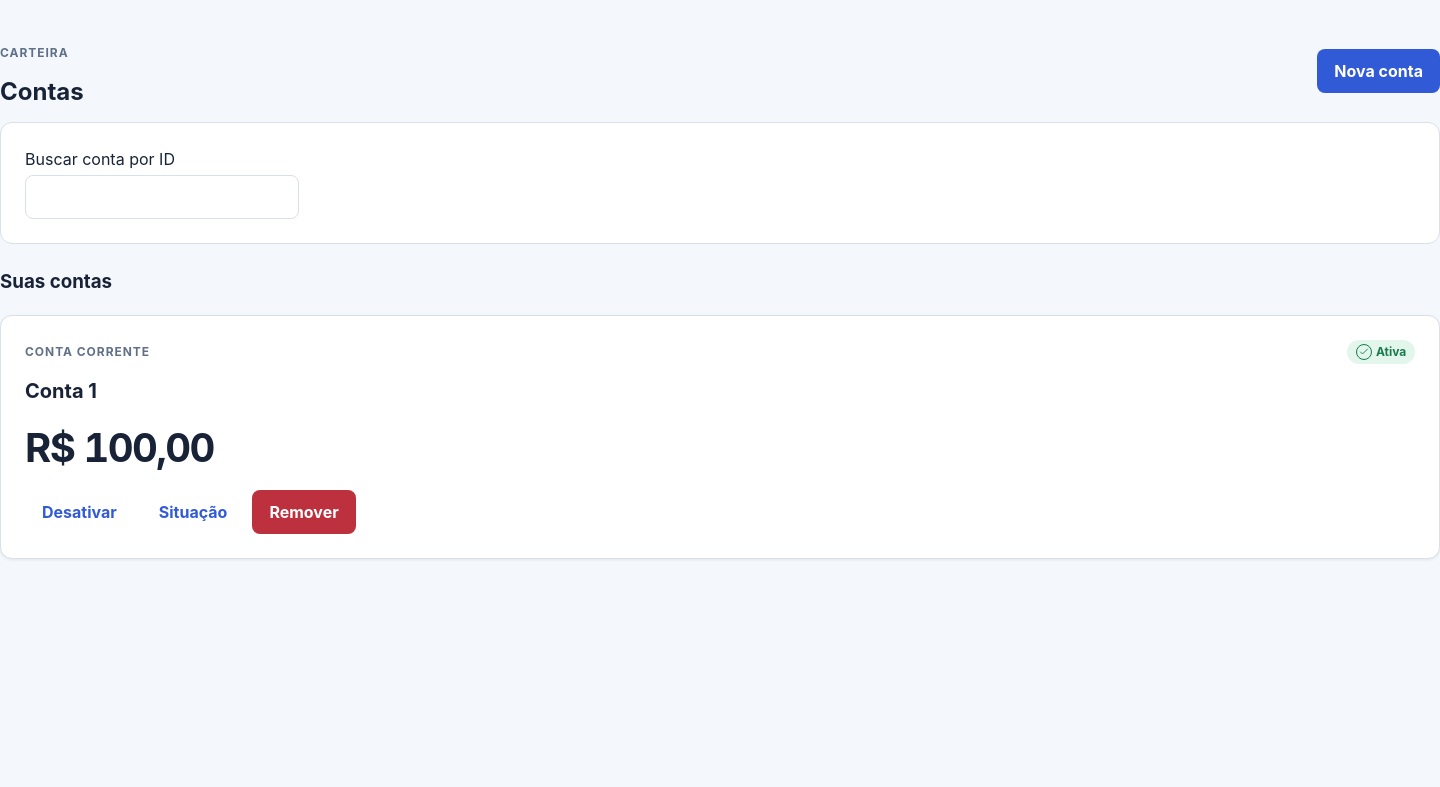
Test: componentes de contas › mostra id_duplicado ao cadastrar conta repetida
The width and height of the screenshot is (1440, 787).
Step 1. Click the button "Nova conta" → [1379, 71], box [1317,49,1439,93]
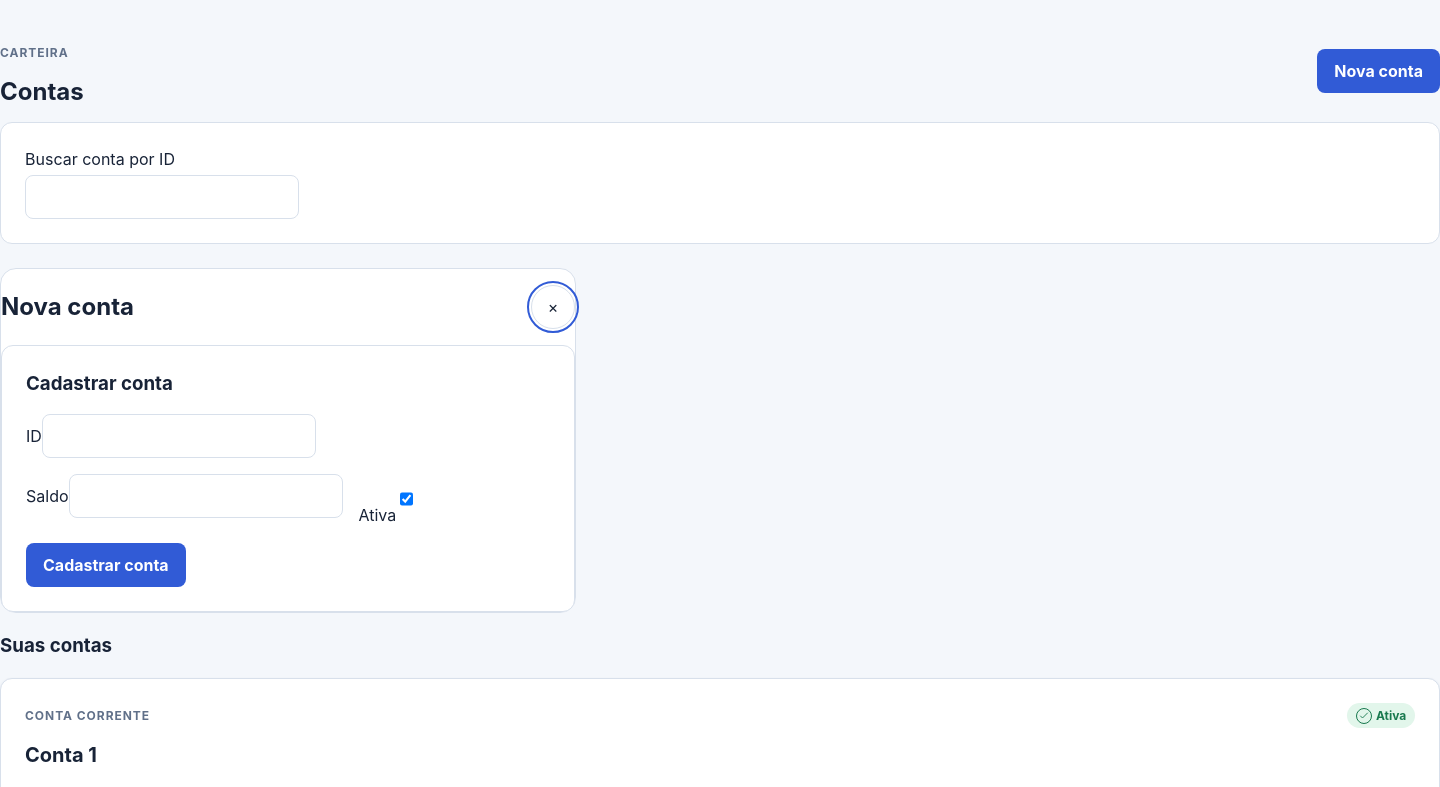
Step 2. Type "1" into the number field named "ID da conta" → [179, 436], box [42,414,316,458]
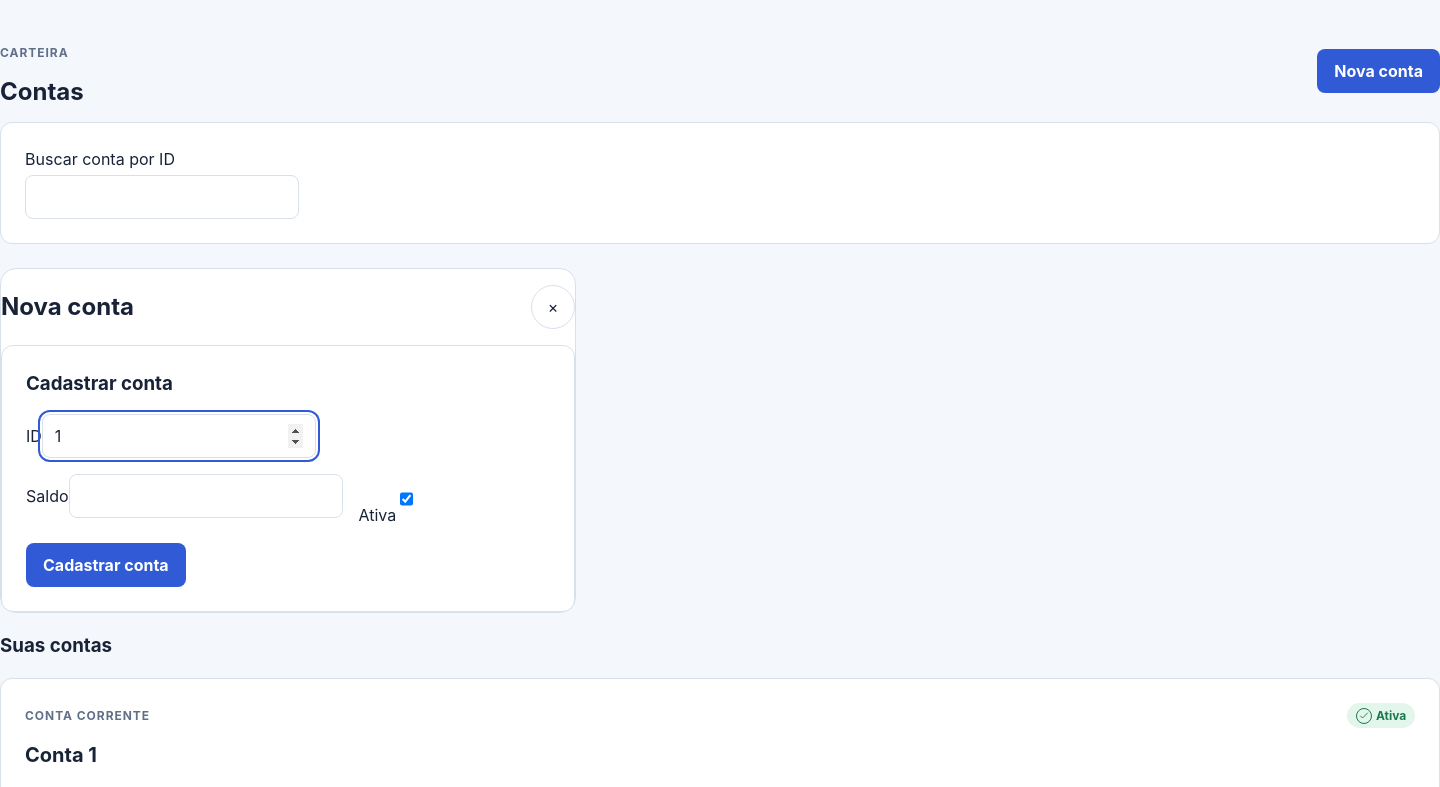
Step 3. Type "20" into the number field labelled "Saldo" → [206, 496], box [68,474,342,518]
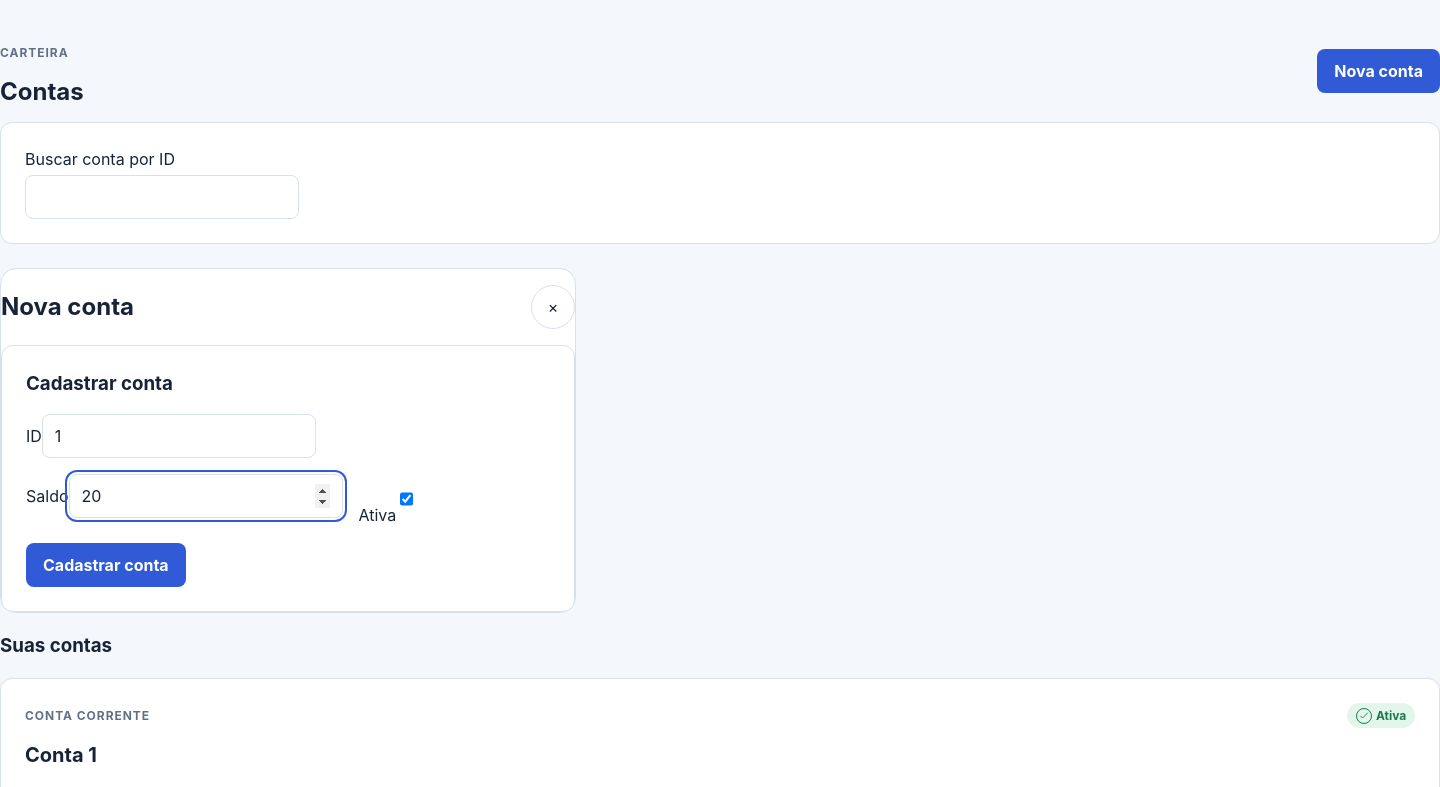
Step 4. Click the button "Cadastrar conta" → [106, 565], box [26,543,186,587]
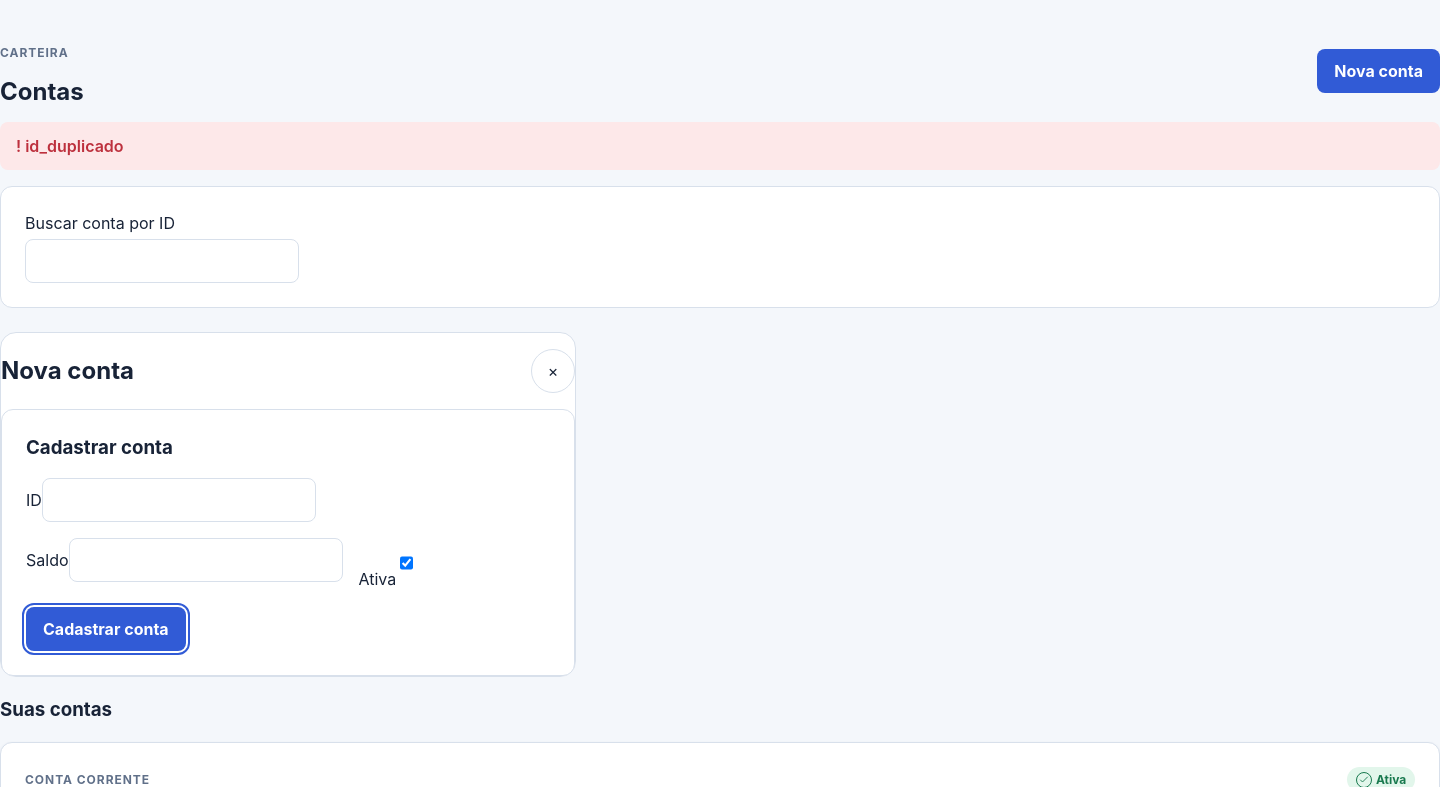
Now the message shows "id_duplicado", box [25,136,124,156]
